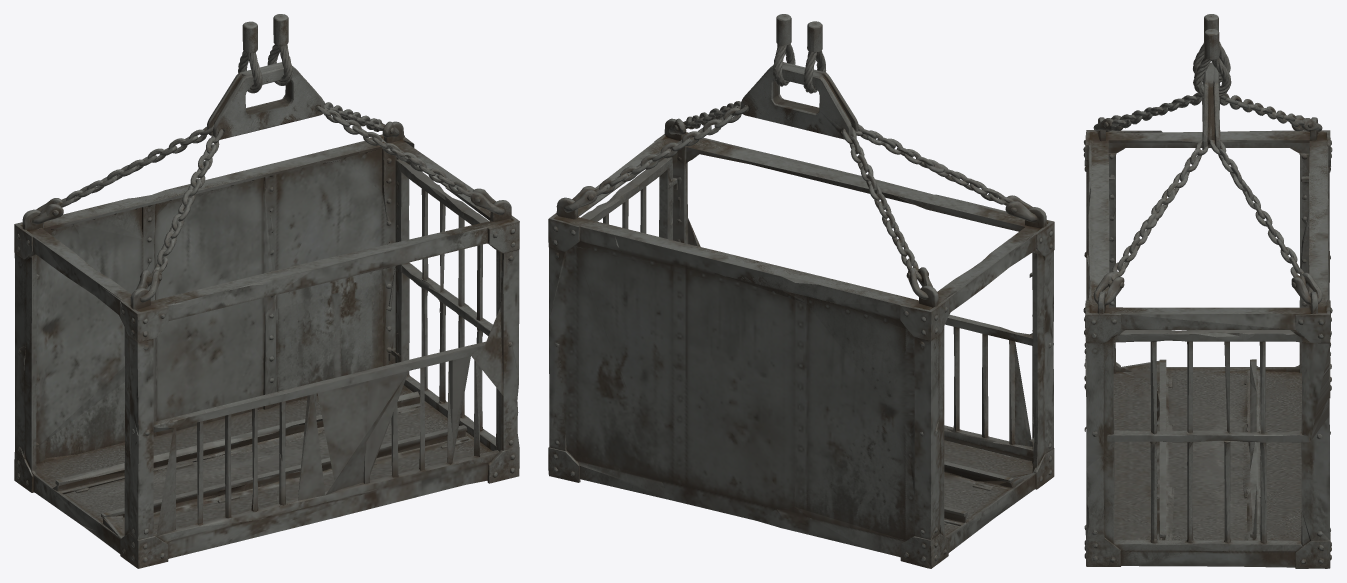
The model's file is shaft_cage_foerderkorb.glb.
The picture shows the model from 3 angles, left to right: view 1: azimuth 30°, elevation 25°; view 2: azimuth 150°, elevation 25°; view 3: azimuth 270°, elevation 25°; orthographic projection.
Size of the model in its own units: 1.68 by 1.9 by 0.9471.
1 material, 1 textured.
